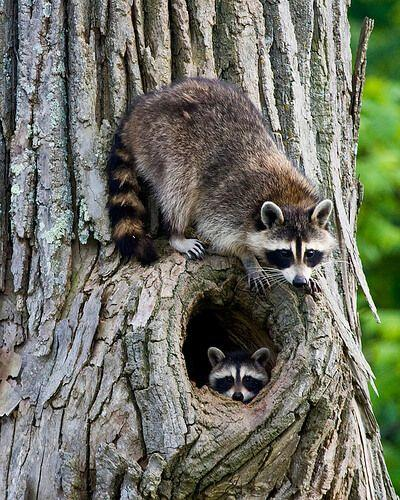raccoon: (103, 80, 343, 294)
